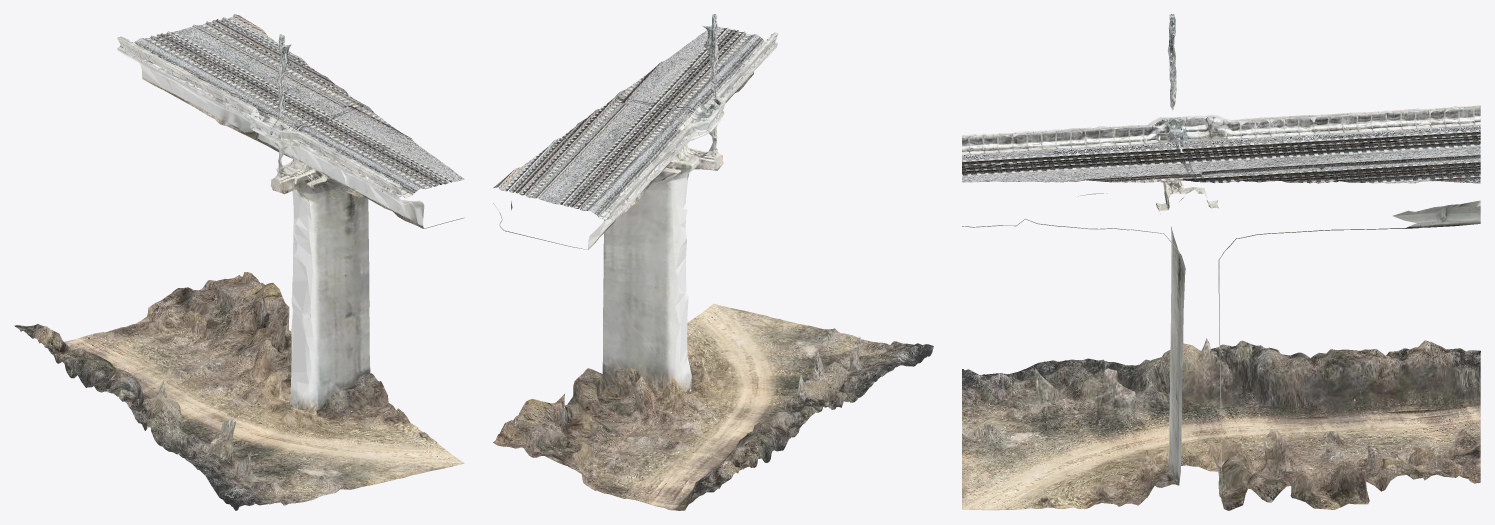
The model's file is Block_L19_80.glb.
The picture shows the model from 3 angles, left to right: view 1: azimuth 30°, elevation 25°; view 2: azimuth 150°, elevation 25°; view 3: azimuth 270°, elevation 25°; orthographic projection. The views are drawn at different scales.
Parts seen in each view (by area): view 1: rtc; view 2: rtc; view 3: rtc.
Part boxes in pixels (box(x1,y1,x2,y2)): rtc: box(14, 14, 464, 510); rtc: box(493, 14, 933, 510); rtc: box(962, 14, 1480, 510).
Bounding box in the file's own units: 20.4 × 33.58 × 35.28.
Materials: 2 (2 with a texture image).
